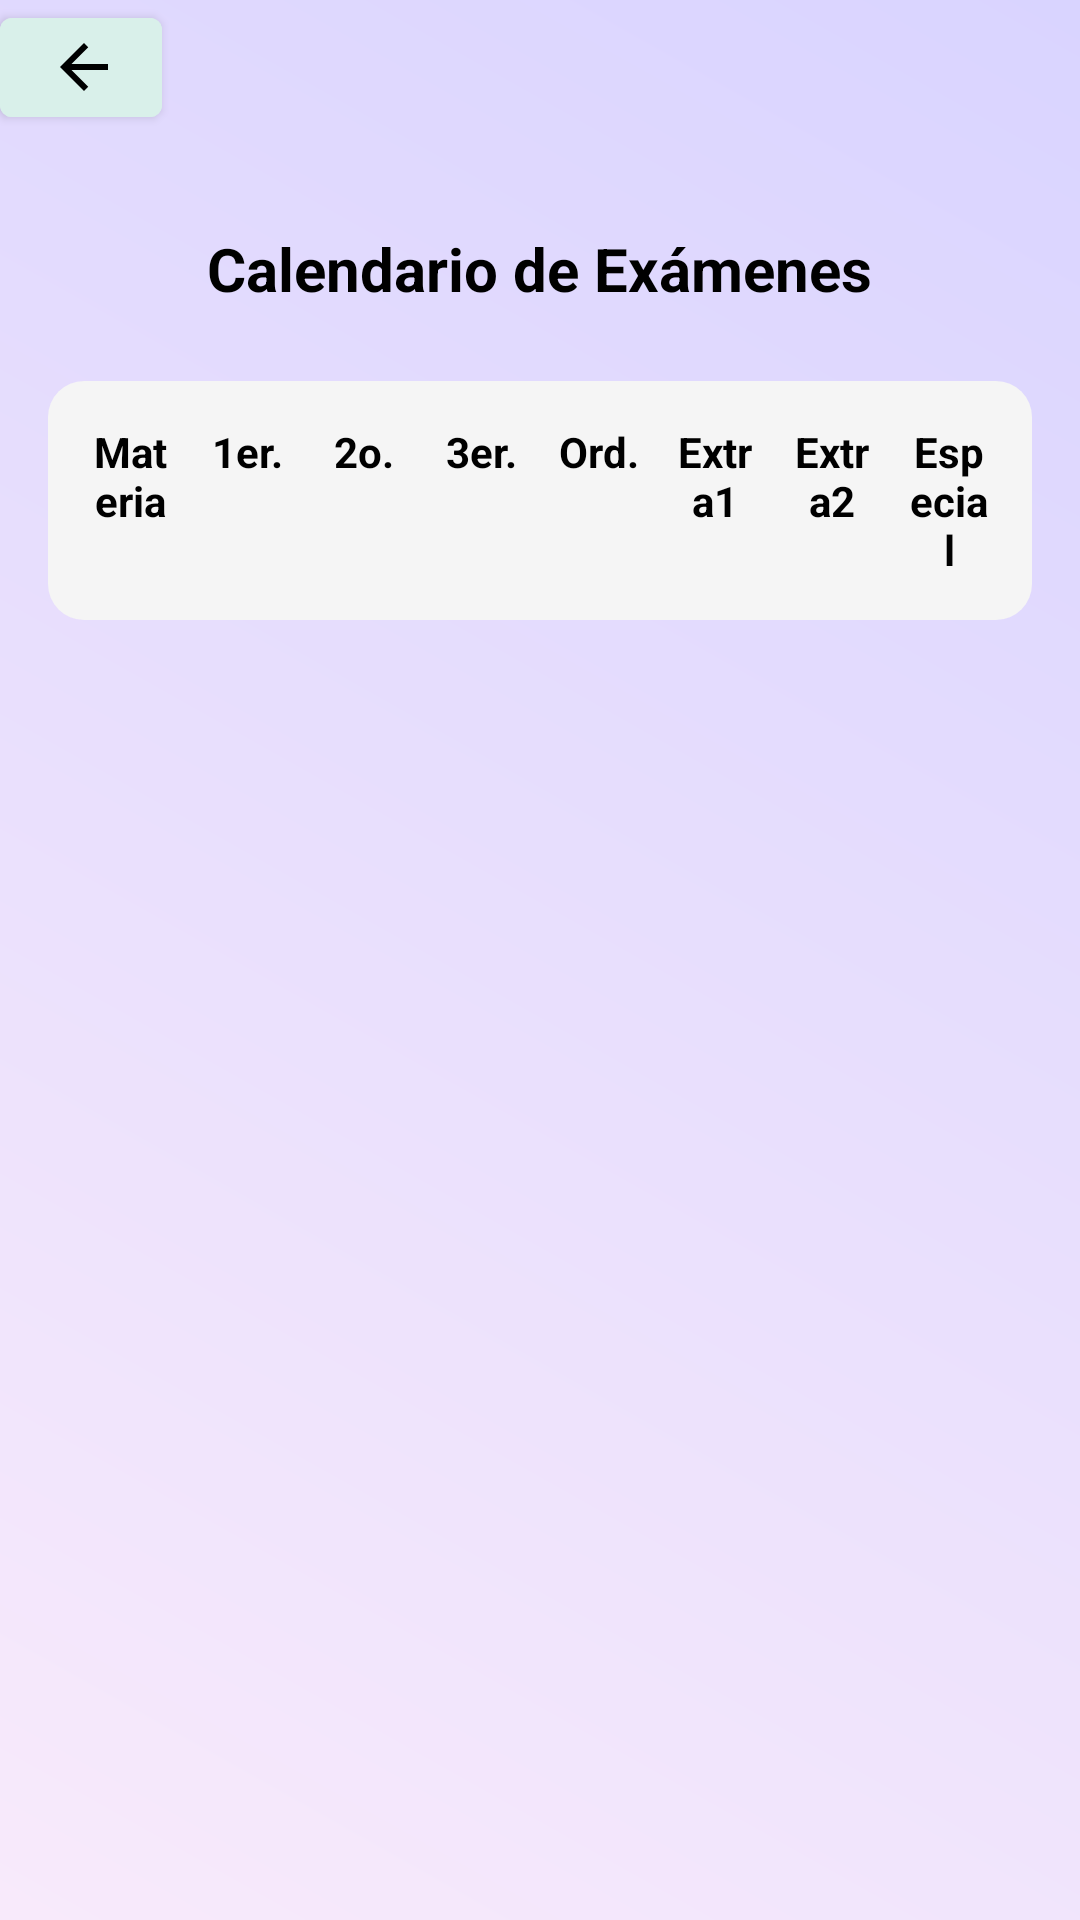

Icons on this 1080px×1920px Android screen, each with the point to tap as (x=x, y=y):
back: (x=81, y=67)
